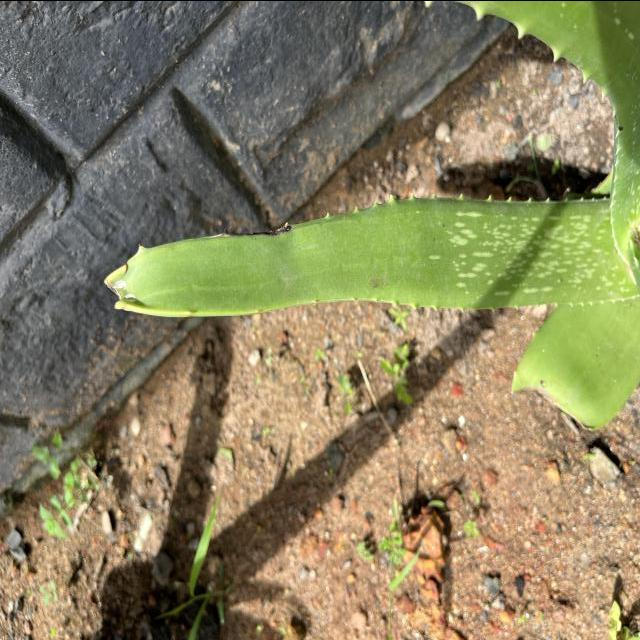Aloe vera: (103, 184, 634, 326)
